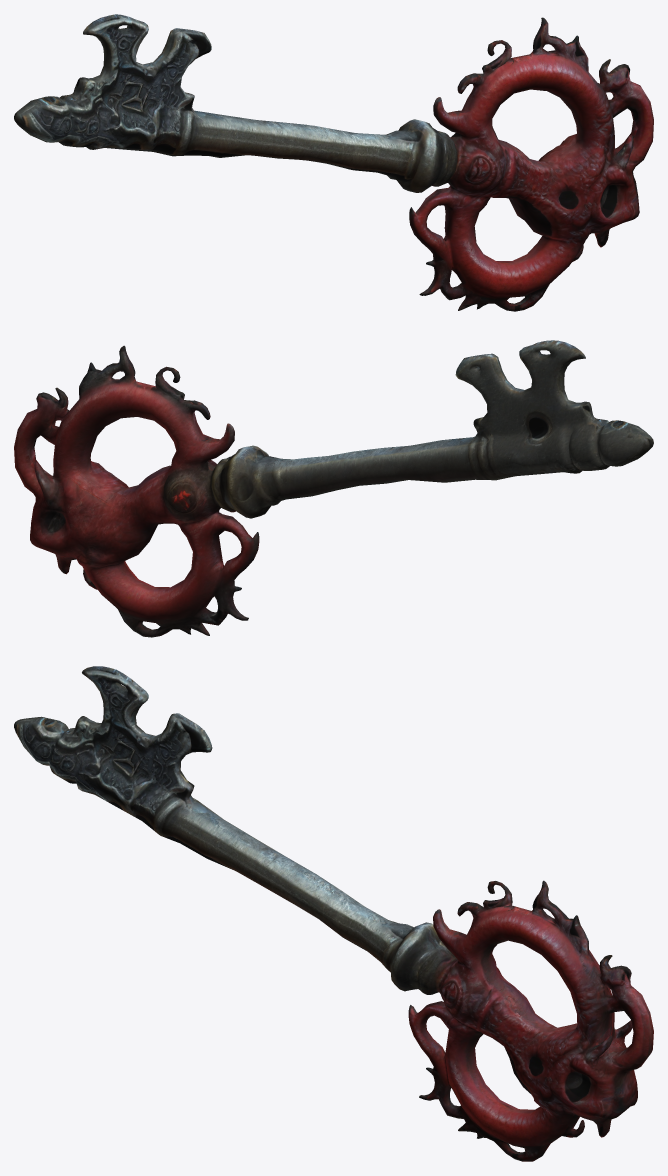
File: A_Devil_Key_ultra_re_0125211455_texture.fbx
The picture shows the model from 3 angles, top to bottom: view 1: azimuth 30°, elevation 25°; view 2: azimuth 150°, elevation 25°; view 3: azimuth 330°, elevation 25°; orthographic projection.
Parts seen in each view (by area): view 1: Mesh1_Mesh1.168; view 2: Mesh1_Mesh1.168; view 3: Mesh1_Mesh1.168.
Boxes of the visible parts, <box> form: Mesh1_Mesh1.168: <box>14,14,653,311</box>; Mesh1_Mesh1.168: <box>14,340,653,637</box>; Mesh1_Mesh1.168: <box>14,666,653,1161</box>.
Bounding box in the file's own units: 1684 × 1000 × 190.
Materials: 1 (1 with a texture image).
